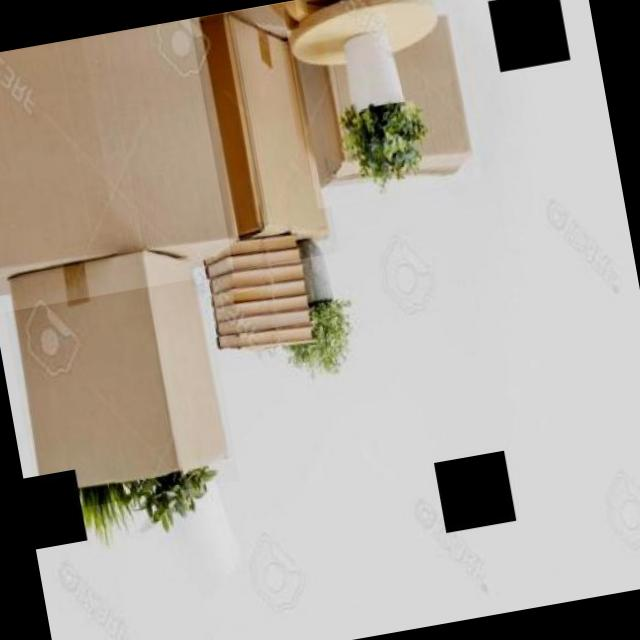box: (0, 17, 251, 313), (0, 234, 239, 514), (286, 1, 483, 208), (189, 1, 339, 270)
